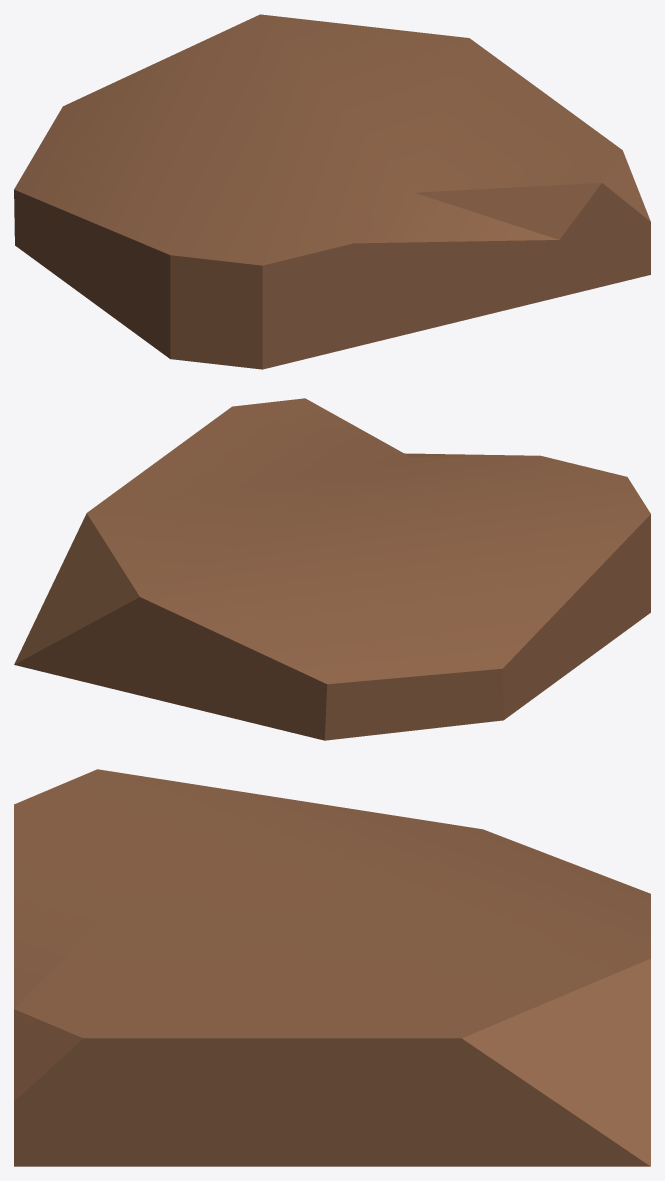
Rendered from Stoneslab_006.FBX.
3 renders of one model, top to bottom at view 1: azimuth 30°, elevation 25°; view 2: azimuth 150°, elevation 25°; view 3: azimuth 270°, elevation 25°, orthographic. The views are drawn at different scales.
Visible parts, largest first — view 1: Stoneslab_006; view 2: Stoneslab_006; view 3: Stoneslab_006.
Part boxes in pixels (bbox=[...]): Stoneslab_006: bbox=[14, 14, 650, 369]; Stoneslab_006: bbox=[14, 398, 650, 740]; Stoneslab_006: bbox=[14, 769, 650, 1166].
Bounding box in the file's own units: 17.72 × 3.94 × 17.72.
